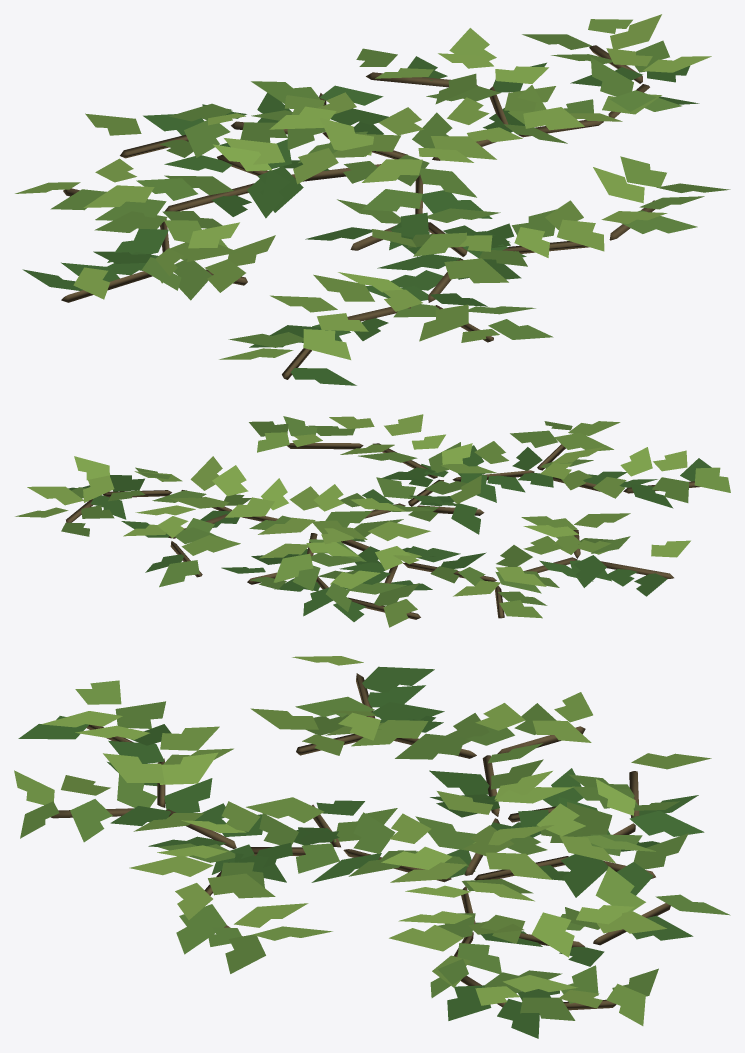
File: leaf_mat_2.glb
3 renders of one model, top to bottom at view 1: azimuth 30°, elevation 25°; view 2: azimuth 150°, elevation 25°; view 3: azimuth 270°, elevation 25°, orthographic. The views are drawn at different scales.
Visible parts, largest first — view 1: leaf_mat_2; view 2: leaf_mat_2; view 3: leaf_mat_2.
Part boxes in pixels (x1,y1,x2,y2): leaf_mat_2: (15,14,730,385); leaf_mat_2: (15,414,730,627); leaf_mat_2: (14,656,730,1038).
Bounding box in the file's own units: 1.2 × 0.05 × 1.
Materials: 2 (2 with a texture image).
